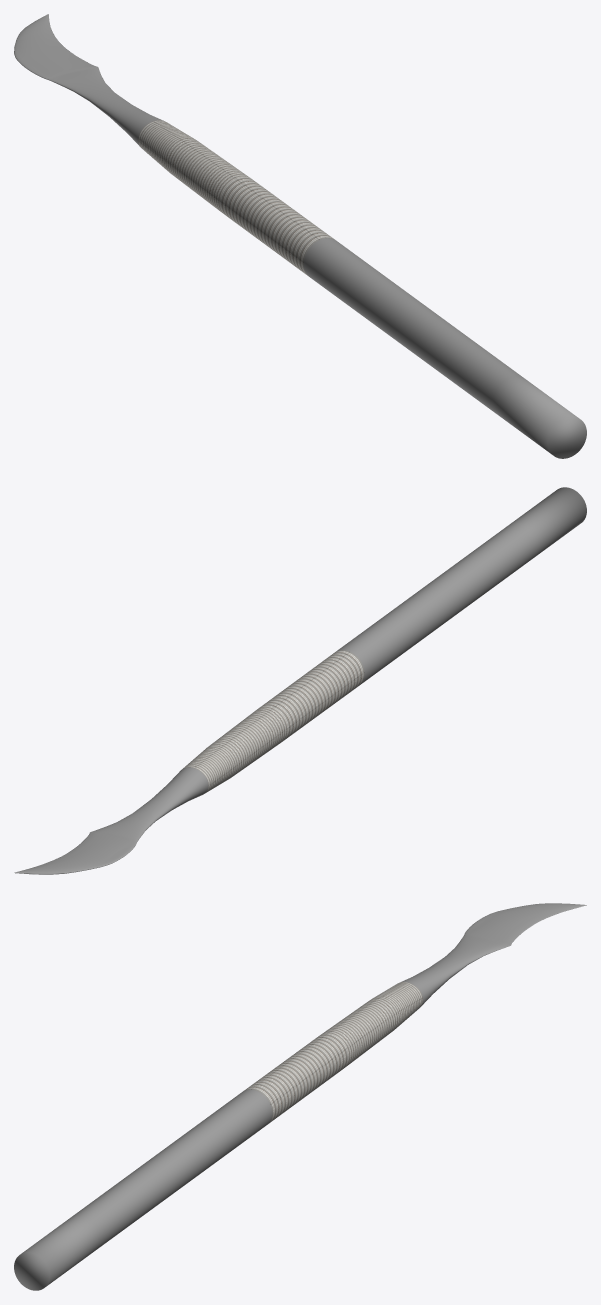
The model's file is ToolScalpel.fbx.
3 views of the same model, one above another, from view 1: azimuth 30°, elevation 25°; view 2: azimuth 150°, elevation 25°; view 3: azimuth 330°, elevation 25° (orthographic). The views are drawn at different scales.
Visible parts, largest first — view 1: ToolScalpel; view 2: ToolScalpel; view 3: ToolScalpel.
Part boxes in pixels (x1=…): ToolScalpel: x1=14, y1=14, x2=586, y2=458; ToolScalpel: x1=14, y1=487, x2=586, y2=874; ToolScalpel: x1=14, y1=903, x2=586, y2=1290.
Bounding box in the file's own units: 2.2 × 1.19 × 29.66.
